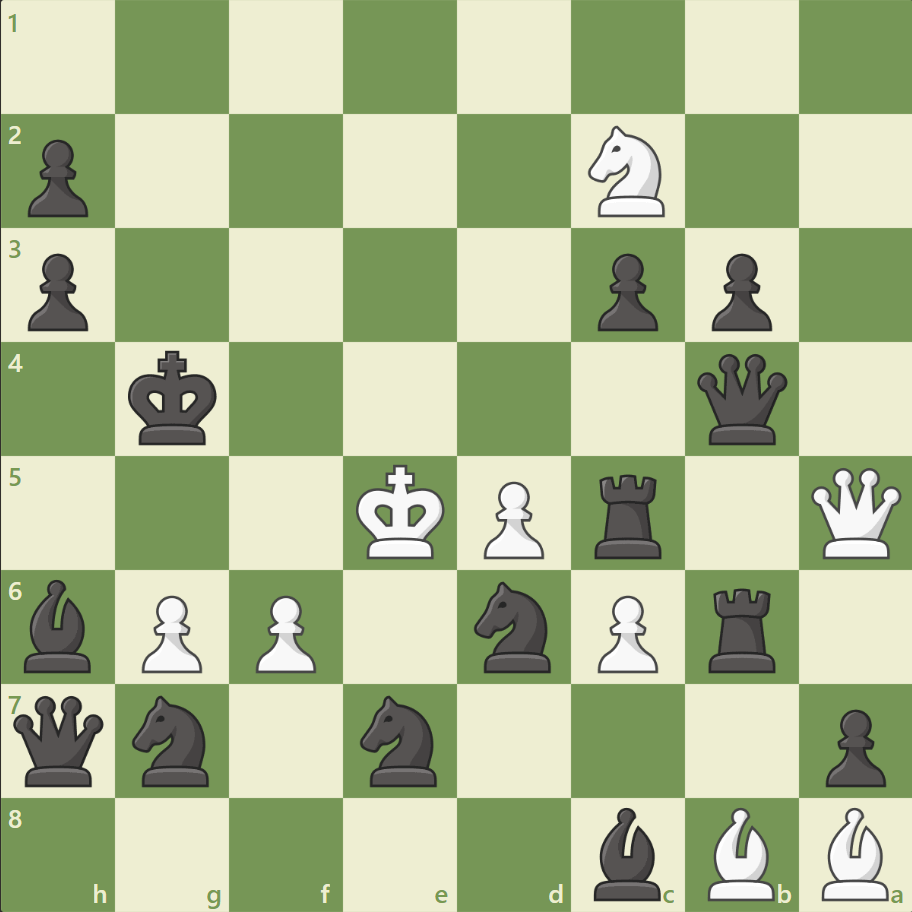B: (812, 801, 896, 904), (698, 801, 782, 904)
K: (351, 458, 451, 566)
N: (579, 121, 676, 223)
P: (247, 586, 322, 677), (133, 586, 208, 677), (474, 473, 549, 564), (588, 586, 662, 677)
Q: (805, 463, 904, 562)
b: (585, 801, 669, 904), (17, 574, 101, 676)
k: (124, 344, 224, 452)
n: (351, 688, 449, 791), (124, 688, 222, 791), (465, 575, 562, 677)
p: (701, 246, 776, 337), (20, 246, 95, 337), (20, 132, 95, 223), (815, 700, 889, 791), (588, 246, 662, 337)
q: (691, 349, 790, 449), (10, 690, 109, 789)
r: (700, 579, 783, 676), (587, 466, 670, 563)
